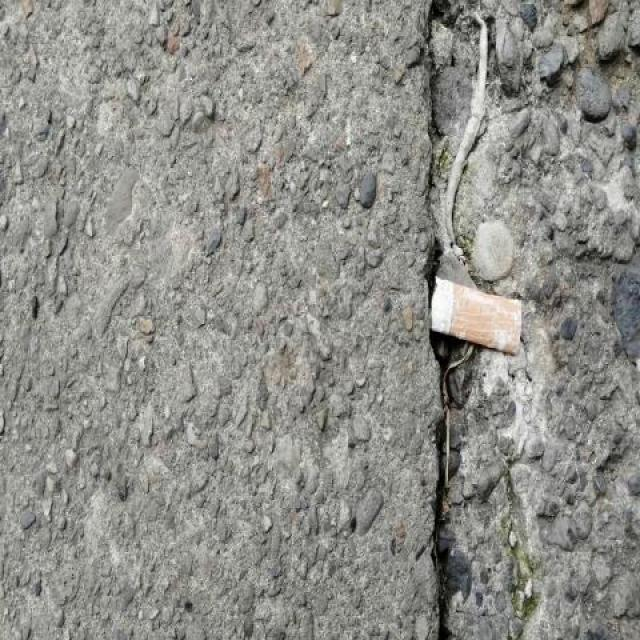non-organic waste: (425, 271, 527, 362)
